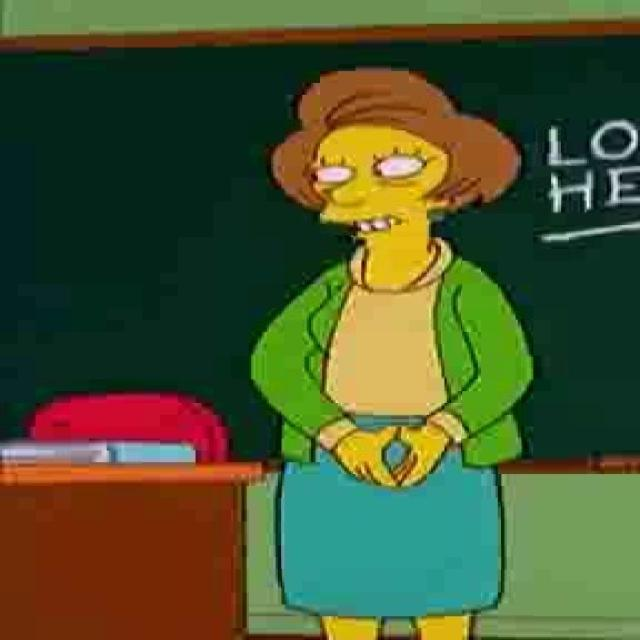Edna Krappel: (262, 64, 524, 280)
